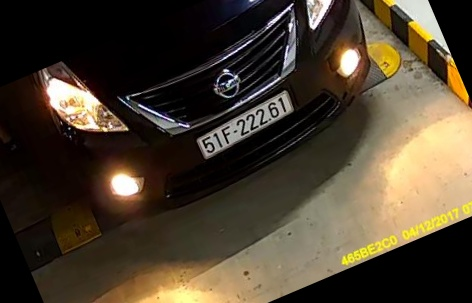plate: (188, 93, 302, 165)
